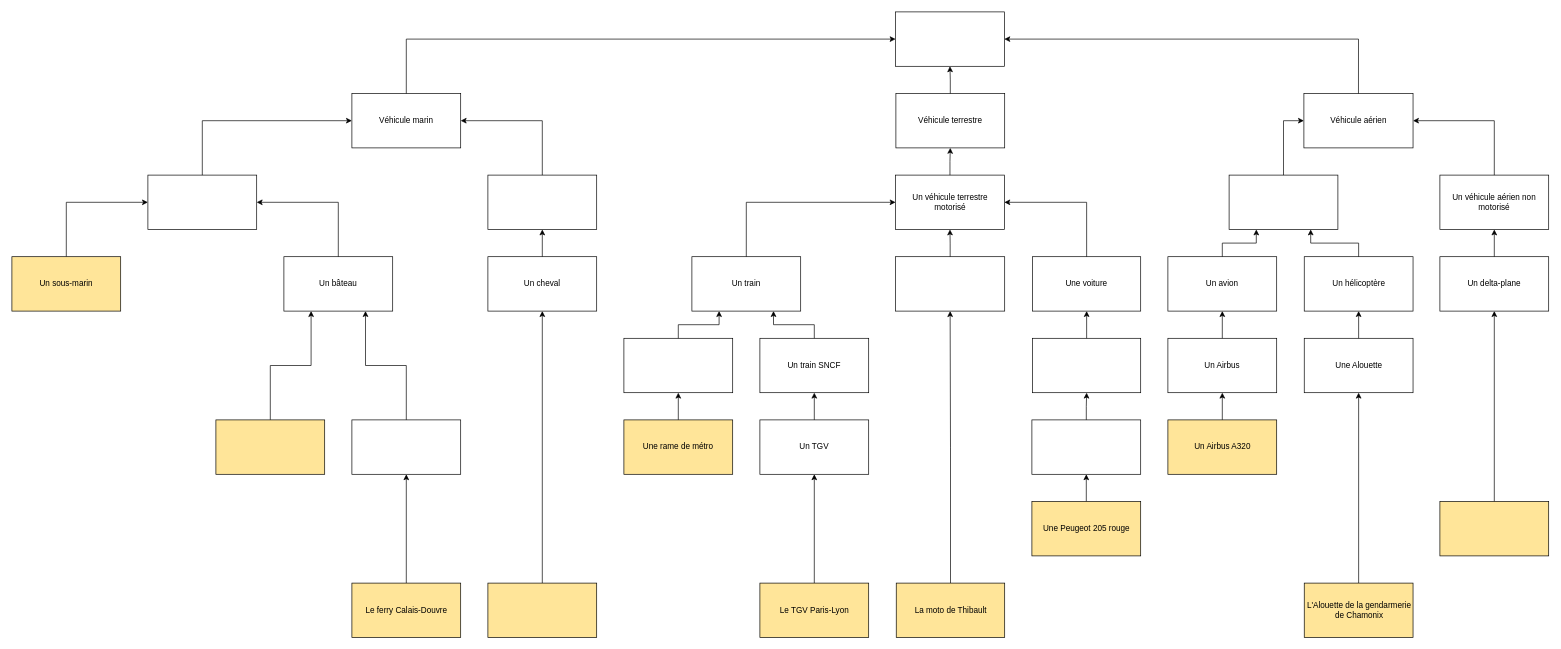
The diagram is 1561 pixels wide and 649 high, and some of its shapes have lost their labels. The shapes that lost their labels are listed below. From the top down, each one's box as (x1, y1, x2, y2) in pixels, then its label:
(895, 11, 1004, 66): Véhicule
(147, 174, 257, 230): Un véhicule marin motorisé
(487, 174, 597, 230): Un véhicule terrestre non motorisé
(1228, 174, 1338, 230): Un véhicule aérien motorisé
(895, 256, 1005, 311): Une moto
(623, 338, 733, 393): Un train RATP
(1032, 338, 1141, 393): Une Peugeot
(215, 419, 325, 474): Un voilier Bénéteau
(351, 419, 461, 474): Un ferry
(1031, 419, 1141, 474): Une Peugeot 205
(1439, 501, 1549, 556): Un delta-plane jaune
(487, 582, 597, 638): Le cheval Berlino II
